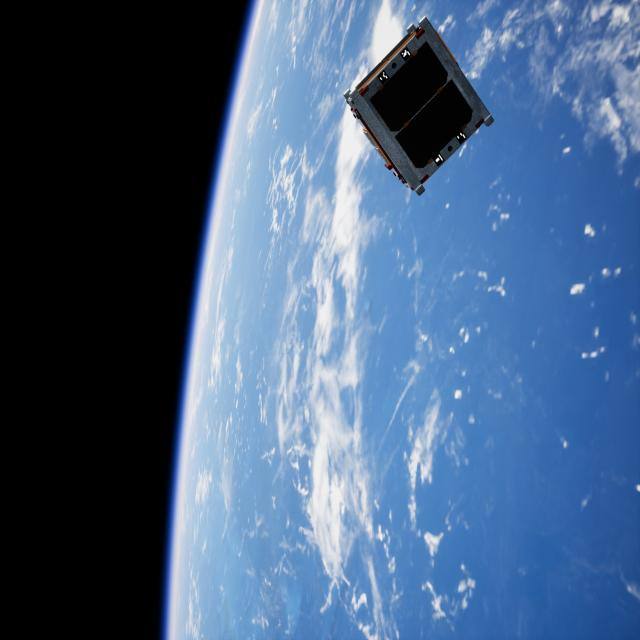medium_debris: (336, 14, 510, 195)
